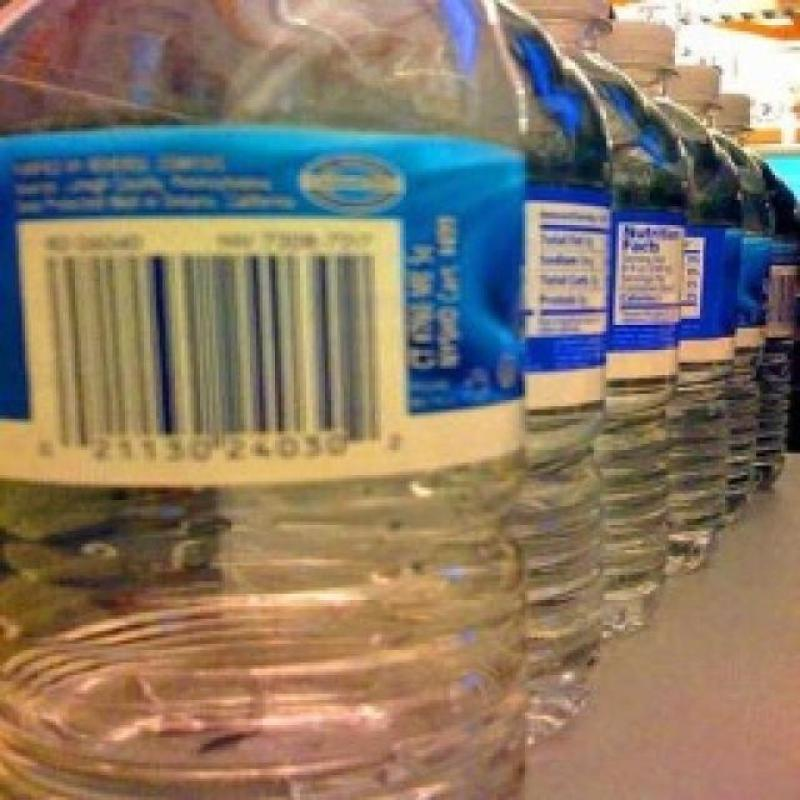botella: (0, 0, 528, 800), (485, 0, 616, 750), (590, 21, 720, 577), (658, 62, 742, 550), (710, 95, 780, 499), (762, 173, 794, 489)
